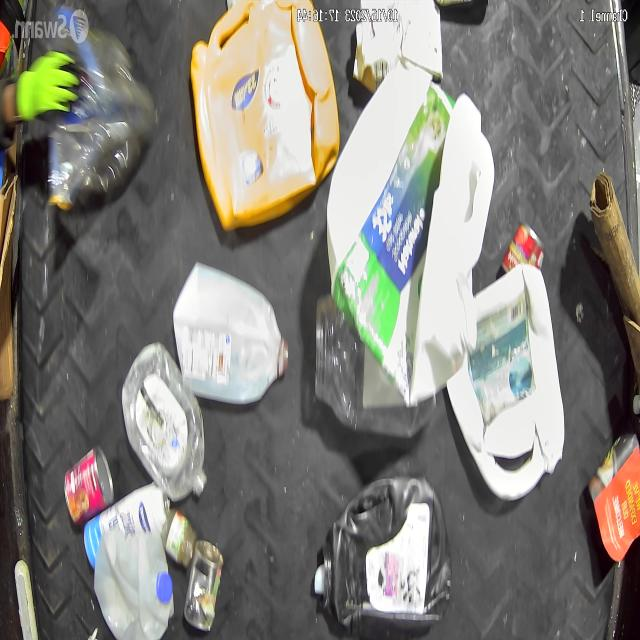can: (180, 536, 230, 632), (64, 446, 116, 524), (500, 224, 550, 276)
milk_jug: (326, 61, 494, 406), (446, 268, 566, 506), (173, 268, 290, 408), (93, 532, 171, 640)
non_white_jug: (190, 3, 338, 235), (314, 476, 446, 640)
plastic_bottle: (124, 336, 210, 498)
